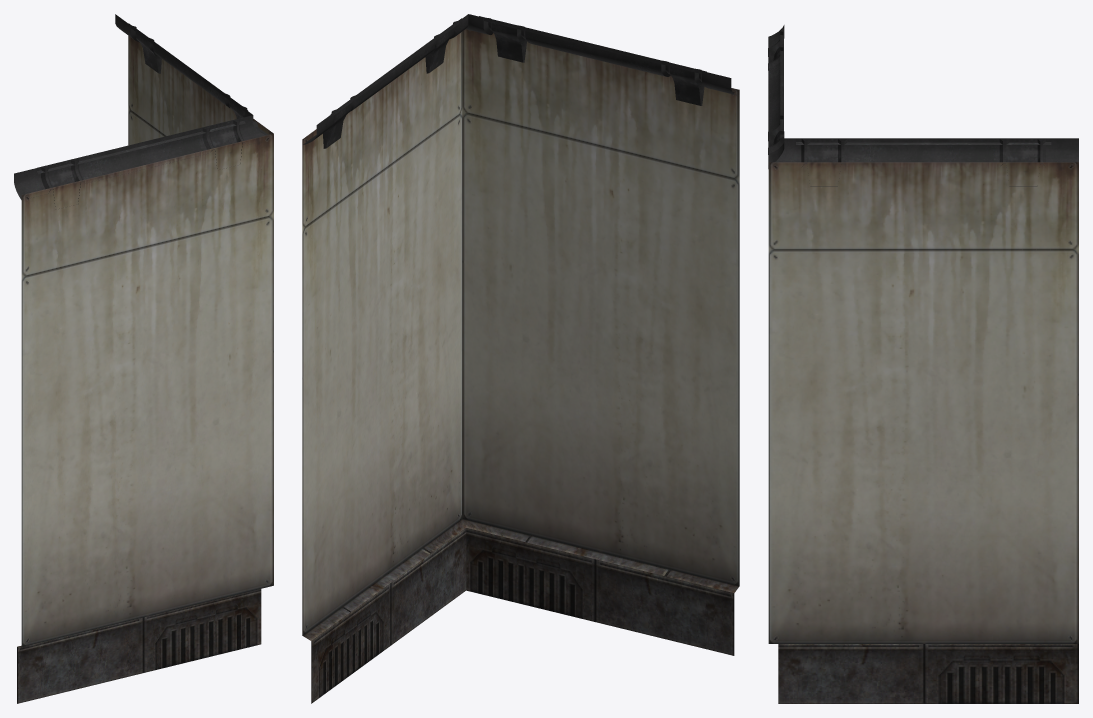
Rendered from lab_concave_short.dae.
The picture shows the model from 3 angles, left to right: view 1: azimuth 30°, elevation 25°; view 2: azimuth 150°, elevation 25°; view 3: azimuth 270°, elevation 25°; orthographic projection. The views are drawn at different scales.
Visible parts, largest first — view 1: lab_concave_short; view 2: lab_concave_short; view 3: lab_concave_short.
Part boxes in pixels (<box>): lab_concave_short: <box>14,14,273,703</box>; lab_concave_short: <box>302,14,739,703</box>; lab_concave_short: <box>768,25,1078,703</box>.
Bounding box in the file's own units: 2 × 4 × 2.
